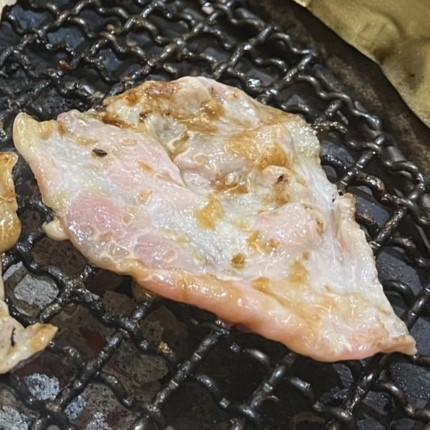Undercooked: (12, 77, 417, 365)
